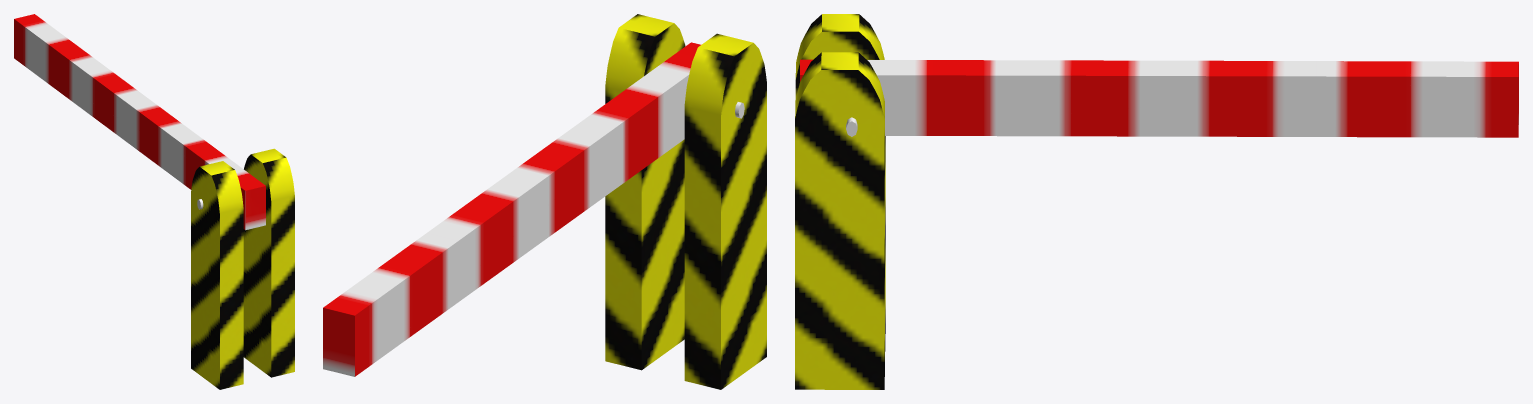
Rendered from road_blocker.fbx.
3 views of the same model, side by side, from view 1: azimuth 30°, elevation 25°; view 2: azimuth 150°, elevation 25°; view 3: azimuth 270°, elevation 25° (orthographic). The views are drawn at different scales.
Visible parts, largest first — view 1: Cube_001.001, Cylinder.001; view 2: Cube_001.001, Cylinder.001; view 3: Cylinder.001, Cube_001.001.
Part boxes in pixels (<box>): Cube_001.001: <box>191,148,294,389</box>; Cylinder.001: <box>14,14,265,230</box>; Cube_001.001: <box>605,14,766,389</box>; Cylinder.001: <box>323,42,744,376</box>; Cylinder.001: <box>800,59,1518,137</box>; Cube_001.001: <box>795,14,885,389</box>.
Bounding box in the file's own units: 11.12 × 26.74 × 54.85.
